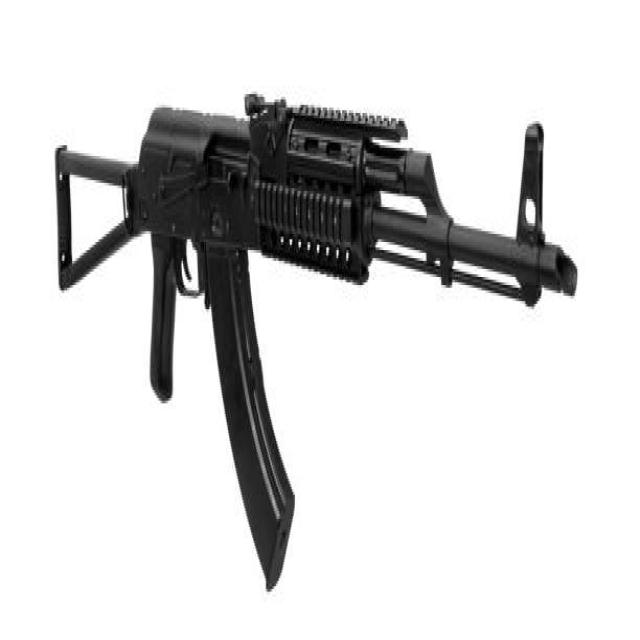rifle: (49, 75, 586, 608)
